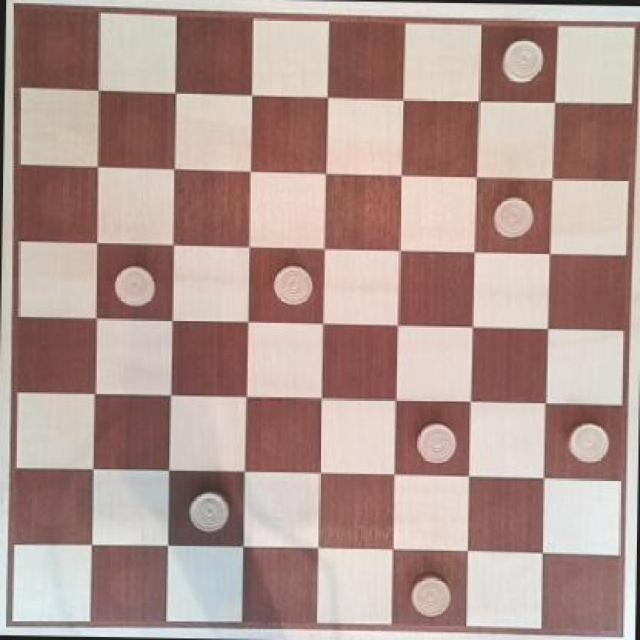BOARD: (16, 3, 638, 640)
white: (181, 482, 235, 538), (558, 418, 618, 468), (268, 260, 321, 314), (107, 259, 162, 310), (496, 36, 553, 84), (405, 572, 458, 623), (488, 192, 538, 243), (414, 420, 461, 469)
